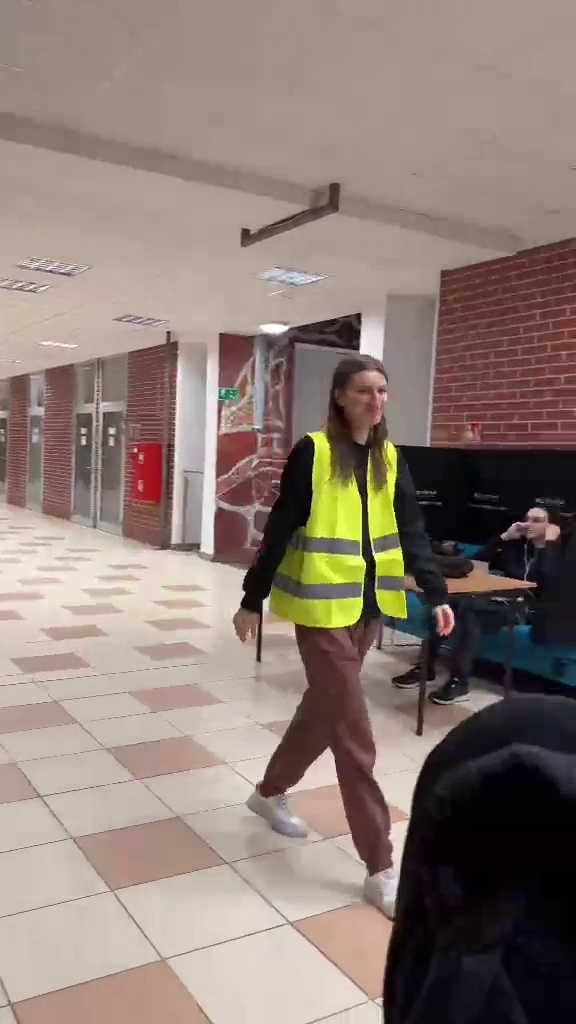no vest: (414, 483, 574, 705)
vest: (234, 343, 459, 920)
